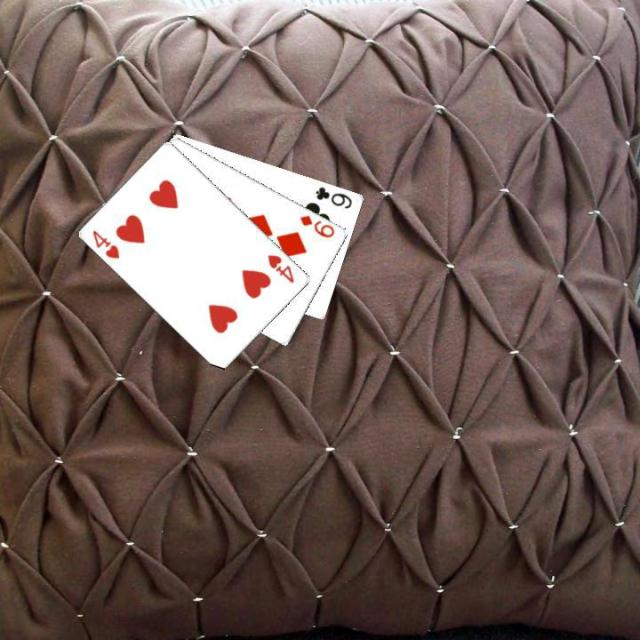4H: (264, 251, 297, 285), (89, 226, 122, 260)
6C: (312, 182, 354, 211)
9D: (296, 211, 337, 239)
